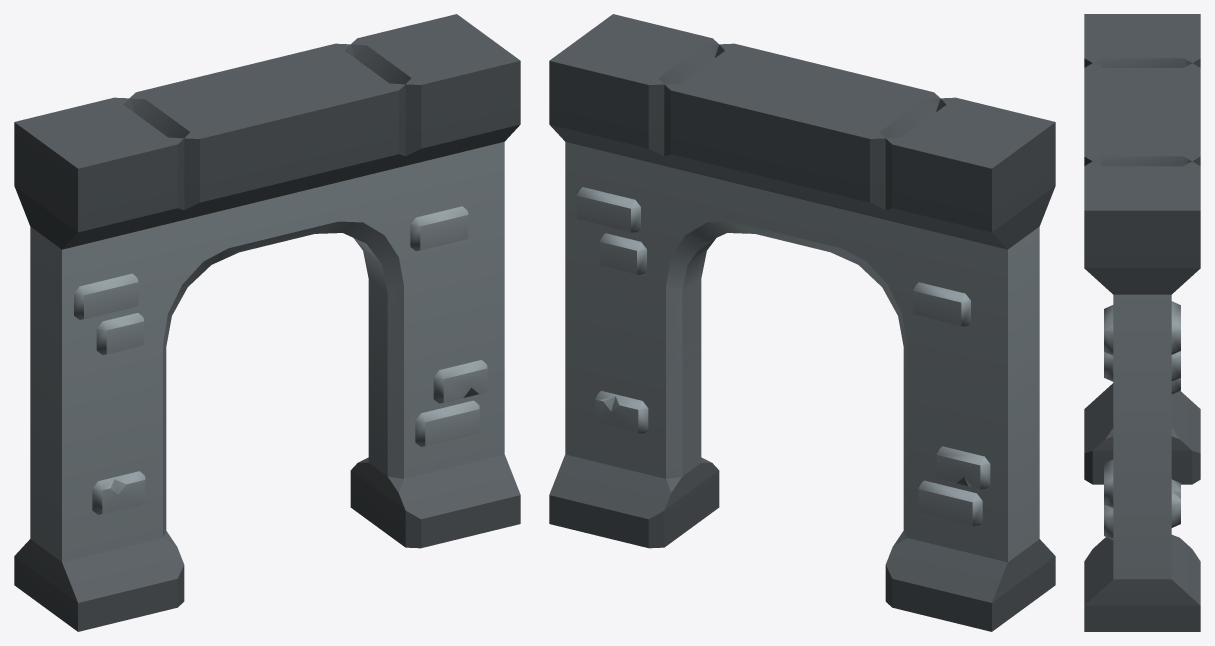
File: wall_doorway.gltf
3 views of the same model, side by side, from view 1: azimuth 30°, elevation 25°; view 2: azimuth 150°, elevation 25°; view 3: azimuth 270°, elevation 25° (orthographic). The views are drawn at different scales.
Parts seen in each view (by area): view 1: wall_doorway; view 2: wall_doorway; view 3: wall_doorway.
Part boxes in pixels (x1,y1,x2,y2): wall_doorway: [14, 14, 520, 631]; wall_doorway: [549, 14, 1055, 631]; wall_doorway: [1084, 14, 1200, 631].
Bounding box in the file's own units: 4 × 4 × 1.
Materials: 1 (1 with a texture image).
